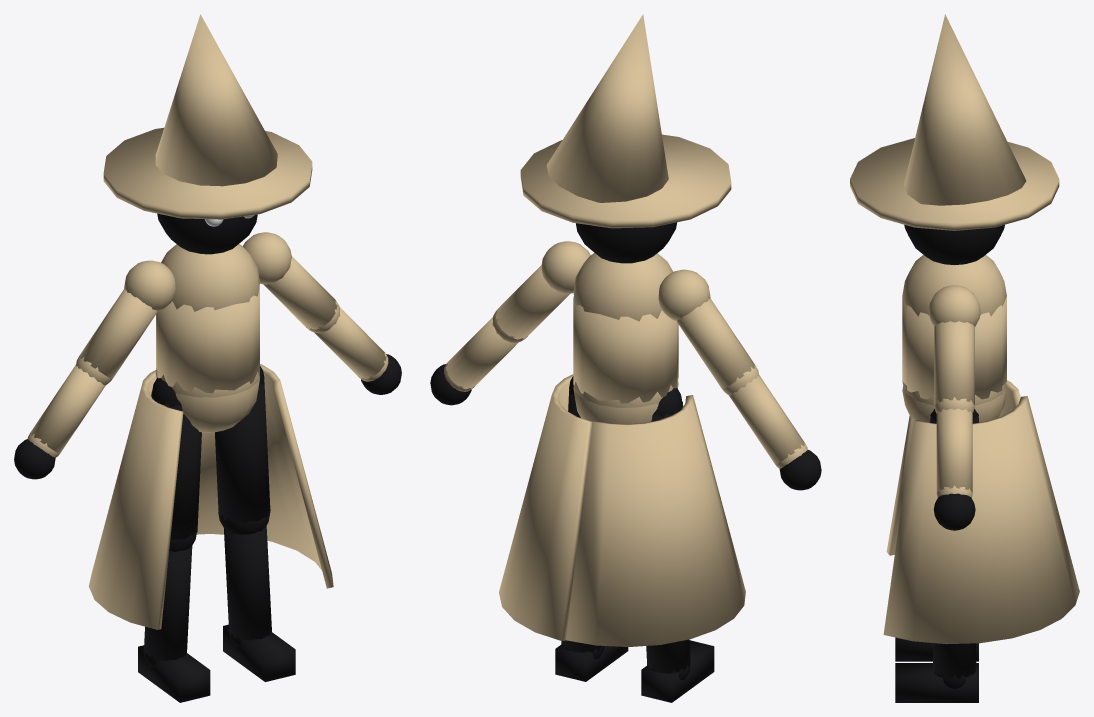
Rendered from traveler_apose.obj.
The picture shows the model from 3 angles, left to right: view 1: azimuth 30°, elevation 25°; view 2: azimuth 150°, elevation 25°; view 3: azimuth 270°, elevation 25°; orthographic projection.
Visible parts, largest first — view 1: Traveler; view 2: Traveler; view 3: Traveler.
Boxes of the visible parts, x1=… form: Traveler: x1=14, y1=14, x2=401, y2=702; Traveler: x1=430, y1=14, x2=821, y2=702; Traveler: x1=850, y1=14, x2=1079, y2=702.
Bounding box in the file's own units: 1.26 × 2.07 × 0.6593.
